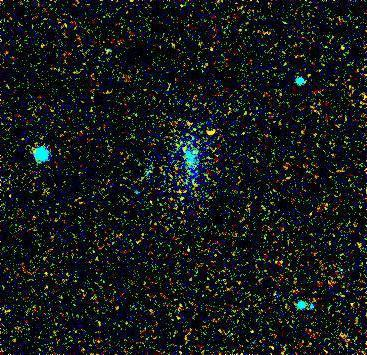star: (196, 118, 226, 148)
